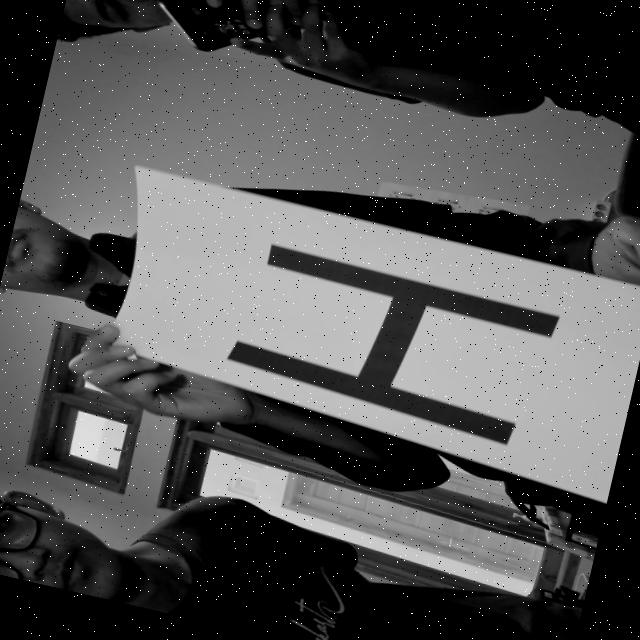h: (206, 221, 579, 458)
